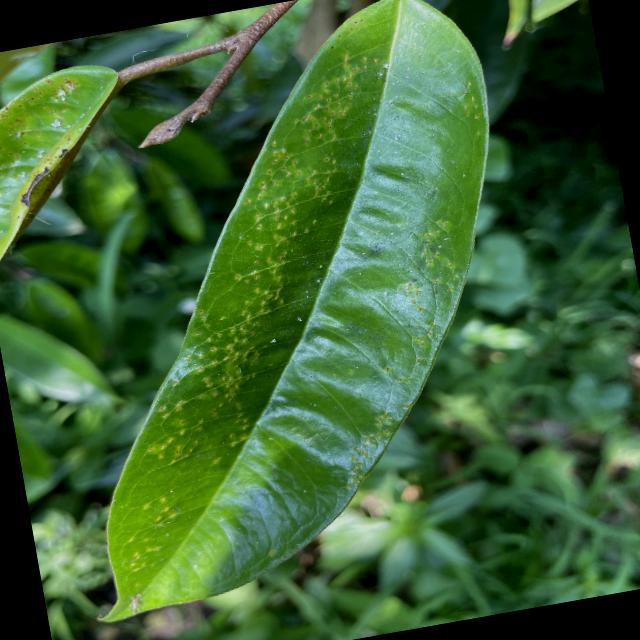Leaf Spot: (0, 0, 571, 633)
